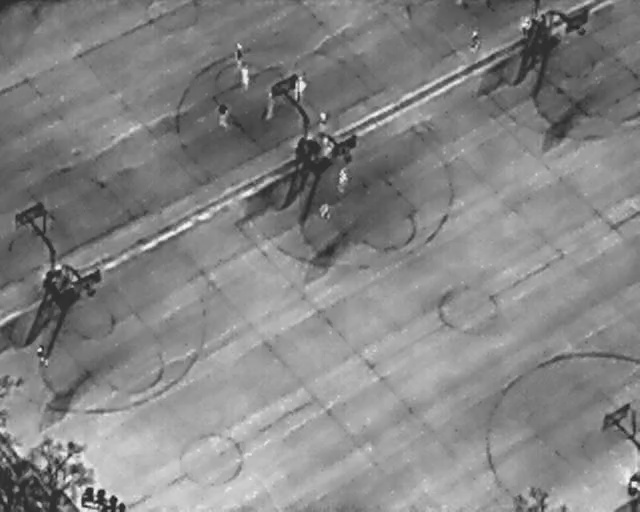Person: (335, 165, 351, 196), (261, 89, 277, 120), (293, 74, 307, 104), (315, 200, 334, 221), (232, 40, 244, 68), (238, 65, 250, 93), (217, 100, 229, 128), (316, 109, 328, 137), (468, 29, 481, 54), (35, 344, 49, 367), (519, 16, 533, 34)
